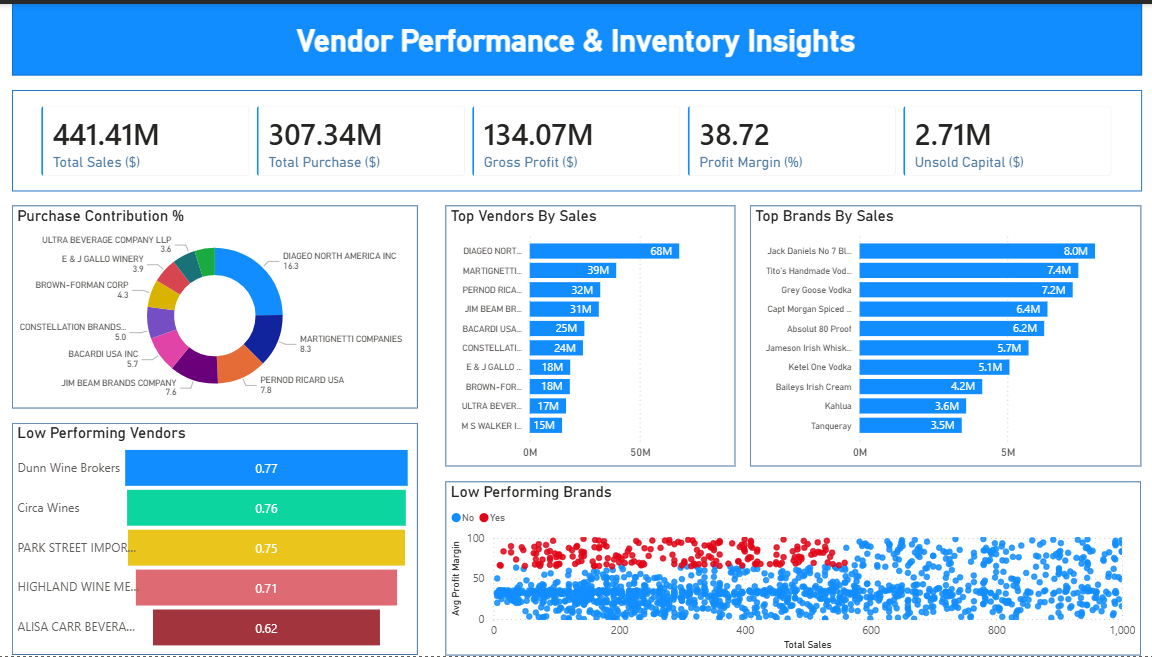

Layout of this report page (visuals, bound fields, positions):
{"tool":"powerbi","page":{"name":"Page 1","canvas":[1280,720],"ordinal":0},"visuals":[{"type":"shape","box":[16,0,1248,80],"z":0},{"type":"textbox","box":[32,16,1216,48],"z":1000},{"type":"shape","box":[16,96,1248,112],"z":2000},{"type":"cardVisual","fields":{"Data":["vendor_sales_summary.TotalSalesDollars","vendor_sales_summary.TotalPurchaseDollars","vendor_sales_summary.GrossProfit","vendor_sales_summary.ProfitMargin","vendor_sales_summary.UnsoldCapital"]},"box":[32,96,1216,112],"z":3000},{"type":"donutChart","title":"Purchase Contribution %","fields":{"Category":["PurchaseContribution.VendorName"],"Y":["PurchaseContribution.PurchaseContribution%"]},"box":[16,224,448,224],"z":4000},{"type":"barChart","title":"Top Vendors By Sales","fields":{"Category":["vendor_sales_summary.VendorName"],"Y":["vendor_sales_summary.TotalSalesDollars"]},"box":[496,224,320,288],"z":5000},{"type":"barChart","title":"Top Brands By Sales","fields":{"Category":["vendor_sales_summary.Description"],"Y":["vendor_sales_summary.TotalSalesDollars"]},"box":[832,224,432,288],"z":6000},{"type":"funnel","title":"Low Performing Vendors","fields":{"Category":["LowTurnoverVendor.VendorName"],"Y":["LowTurnoverVendor.AvgStockTurnover"]},"box":[16,464,448,256],"z":7000},{"type":"scatterChart","title":"Low Performing Brands","fields":{"Category":["BrandPerformance.Description"],"X":["BrandPerformance.TotalSales"],"Y":["BrandPerformance.AvgProfitMargin"],"Series":["BrandPerformance.TargetBrand"]},"box":[496,528,768,192],"z":8000}]}

Visuals, with their boxes in screenshot pixels (x1, y1, x2, y2), scaled from the page's 1280x720 canvas onto the 1152x657 screenshot:
shape: x1=14, y1=0, x2=1138, y2=73
textbox: x1=29, y1=15, x2=1123, y2=58
shape: x1=14, y1=88, x2=1138, y2=190
cardVisual - vendor_sales_summary.TotalSalesDollars x vendor_sales_summary.TotalPurchaseDollars: x1=29, y1=88, x2=1123, y2=190
"Purchase Contribution %" donutChart: x1=14, y1=204, x2=418, y2=409
"Top Vendors By Sales" barChart: x1=446, y1=204, x2=734, y2=467
"Top Brands By Sales" barChart: x1=749, y1=204, x2=1138, y2=467
"Low Performing Vendors" funnel: x1=14, y1=423, x2=418, y2=656
"Low Performing Brands" scatterChart: x1=446, y1=482, x2=1138, y2=656
